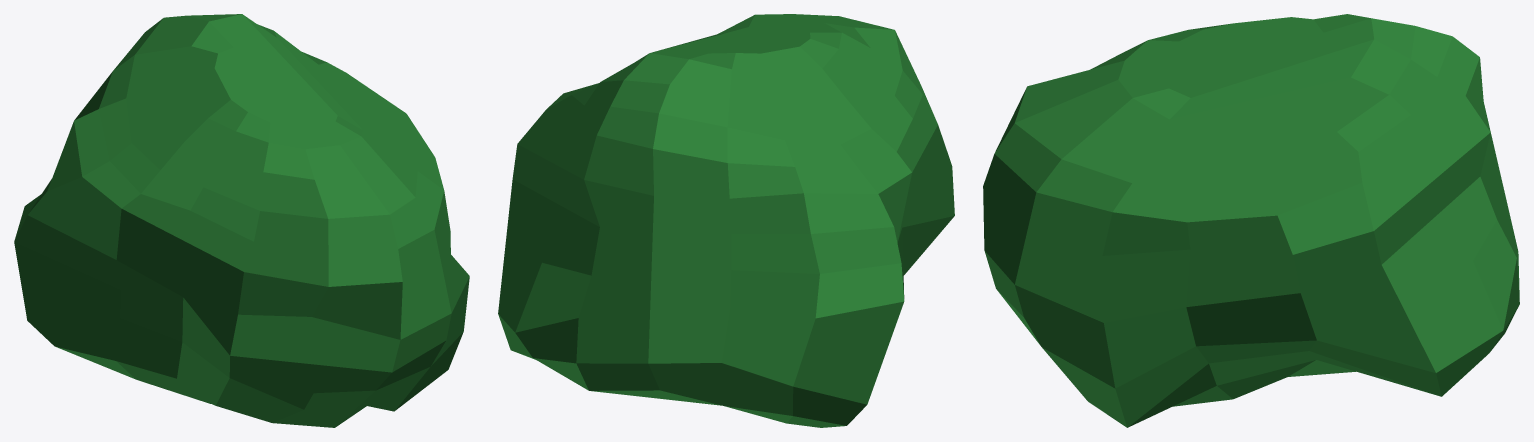
The model's file is bushsmall.fbx.
3 renders of one model, left to right at view 1: azimuth 30°, elevation 25°; view 2: azimuth 150°, elevation 25°; view 3: azimuth 270°, elevation 25°, orthographic. The views are drawn at different scales.
Visible parts, largest first — view 1: Sphere; view 2: Sphere; view 3: Sphere.
Boxes of the visible parts, x1,y1,x2,y2 form: Sphere: (14, 14, 469, 427); Sphere: (498, 14, 954, 427); Sphere: (983, 14, 1519, 427).
Size of the model in its own units: 214 by 179 by 240.
